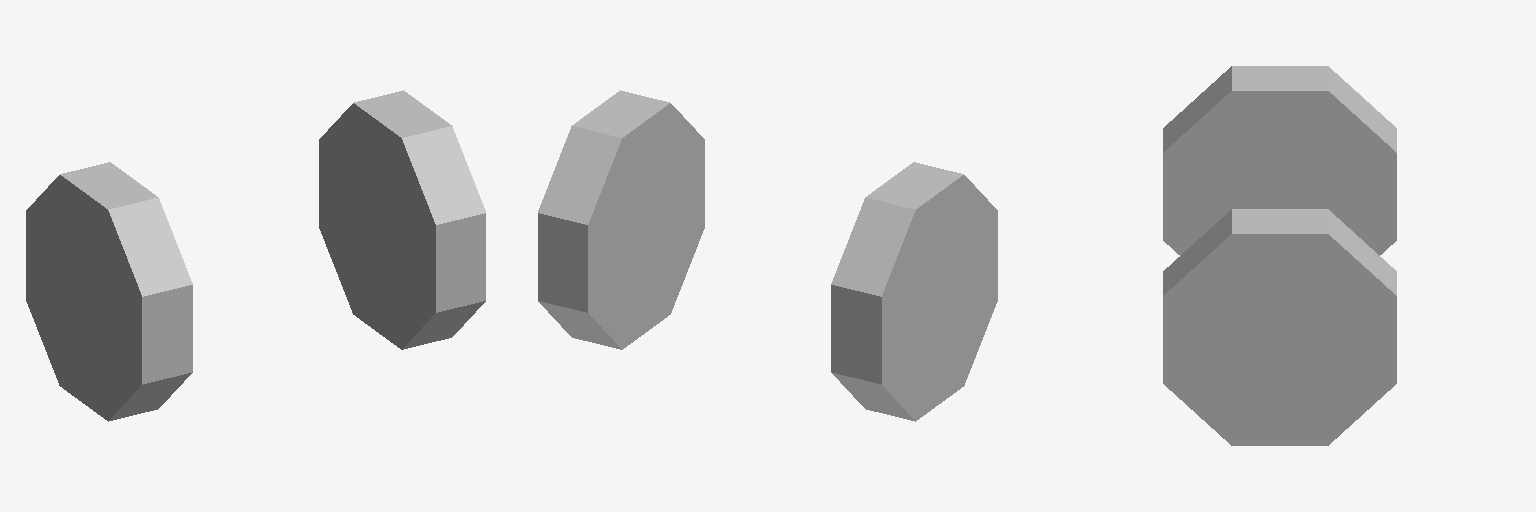
The model's file is full_blind_wheels.obj.
3 views of the same model, side by side, from view 1: azimuth 30°, elevation 25°; view 2: azimuth 150°, elevation 25°; view 3: azimuth 270°, elevation 25° (orthographic).
Parts seen in each view (by area): view 1: Cube.001_1; view 2: Cube.001_1; view 3: Cube.001_1.
Boxes of the visible parts, box(x1,y1,x2,y2) form: Cube.001_1: box(26, 90, 485, 421); Cube.001_1: box(538, 90, 997, 421); Cube.001_1: box(1163, 66, 1396, 445).
Bounding box in the file's own units: 2.12 × 1.25 × 1.25.